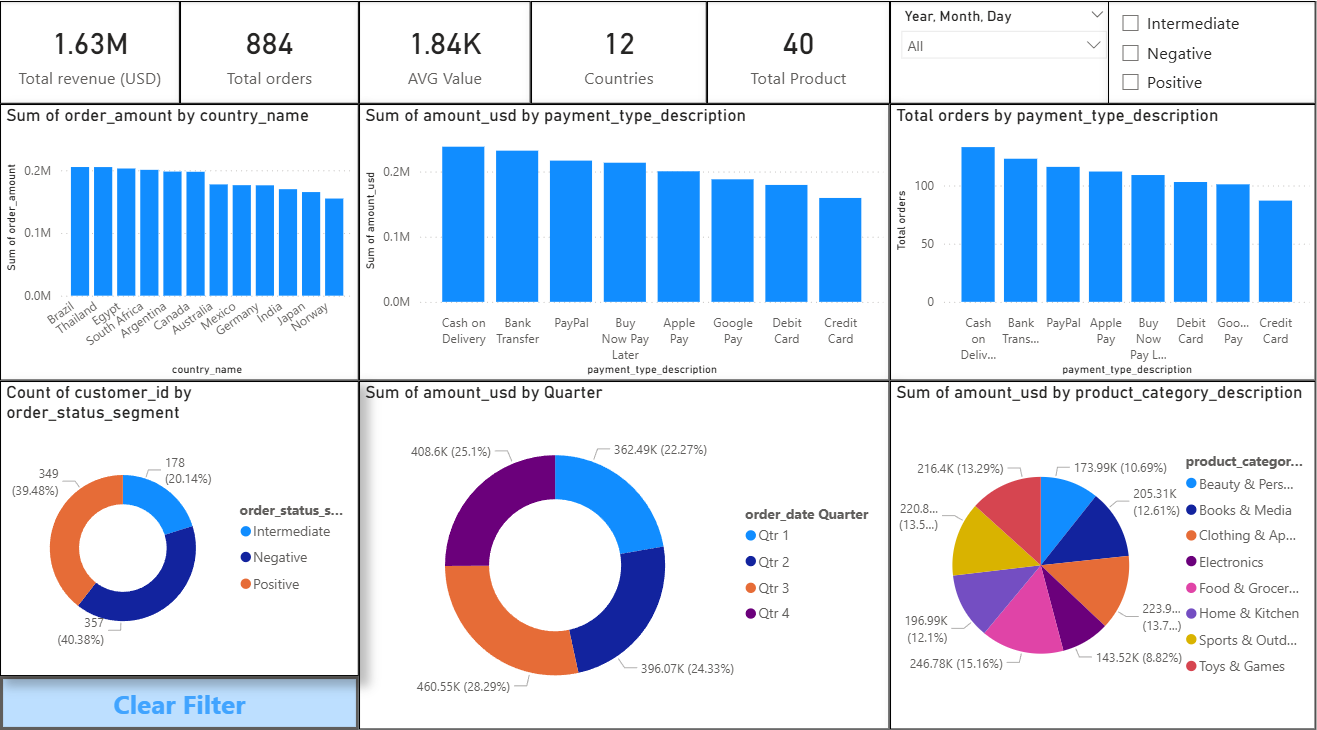

What the dashboard file says about the page in this screenshot:
{"tool":"powerbi","page":{"name":"Page 1","canvas":[1280,720],"ordinal":0},"visuals":[{"type":"card","fields":{"Values":["fact_orders.Total revenue"]},"box":[0,0,175.1,100.2],"z":0},{"type":"card","fields":{"Values":["fact_orders.Total orders"]},"box":[175.1,0,174.1,100.2],"z":1000},{"type":"card","fields":{"Values":["measuree.AVG Value"]},"box":[349.2,0,167.3,100.2],"z":2000},{"type":"card","fields":{"Values":["fact_orders.Countries"]},"box":[516.5,0,171.2,100.2],"z":3000},{"type":"card","fields":{"Values":["fact_orders.Total Product"]},"box":[687.7,0,178,100.2],"z":4000},{"type":"slicer","fields":{"Values":["fact_orders.order_date.Variation.Date Hierarchy.Year","fact_orders.order_date.Variation.Date Hierarchy.Month","fact_orders.order_date.Variation.Date Hierarchy.Day"]},"box":[865.7,0,221.8,100.2],"z":5000},{"type":"clusteredColumnChart","fields":{"Y":["Sum(fact_orders.order_amount)"],"Category":["fact_orders.country_name"]},"box":[0,100.2,349.2,269.4],"z":6000},{"type":"slicer","fields":{"Values":["fact_orders.order_status_segment"]},"box":[1077.7,0,202.3,100.2],"z":7000},{"type":"columnChart","fields":{"Category":["fact_orders.payment_type_description"],"Y":["Sum(fact_orders.amount_usd)"]},"box":[349.2,100.2,516.5,269.4],"z":8000},{"type":"columnChart","fields":{"Y":["measuree.Total orders"],"Category":["fact_orders.payment_type_description"]},"box":[865.7,100.2,414.3,269.4],"z":9000},{"type":"donutChart","fields":{"Y":["Sum(fact_orders.amount_usd)"],"Category":["fact_orders.order_date.Variation.Date Hierarchy.Quarter"]},"box":[349.2,369.6,516.5,339.5],"z":10000},{"type":"pieChart","fields":{"Y":["Sum(fact_orders.amount_usd)"],"Series":["fact_orders.product_category_description"]},"box":[865.7,369.6,414.3,339.5],"z":11000},{"type":"actionButton","box":[1.1,657.5,348.5,51.9],"z":12000},{"type":"donutChart","fields":{"Y":["CountNonNull(fact_orders.customer_id)"],"Category":["fact_orders.order_status_segment"]},"box":[0,370,349,287],"z":13000}]}

Visuals, with their boxes in screenshot pixels (x1, y1, x2, y2), scaled from the page's 1280x720 canvas onto the 1317x730 screenshot:
card - fact_orders.Total revenue: crop(0, 0, 180, 102)
card - fact_orders.Total orders: crop(180, 0, 359, 102)
card - measuree.AVG Value: crop(359, 0, 531, 102)
card - fact_orders.Countries: crop(531, 0, 708, 102)
card - fact_orders.Total Product: crop(708, 0, 891, 102)
slicer - fact_orders.order_date.Variation.Date Hierarchy.Year x fact_orders.order_date.Variation.Date Hierarchy.Month: crop(891, 0, 1119, 102)
clusteredColumnChart - Sum(fact_orders.order_amount) x fact_orders.country_name: crop(0, 102, 359, 375)
slicer - fact_orders.order_status_segment: crop(1109, 0, 1316, 102)
columnChart - fact_orders.payment_type_description x Sum(fact_orders.amount_usd): crop(359, 102, 891, 375)
columnChart - measuree.Total orders x fact_orders.payment_type_description: crop(891, 102, 1316, 375)
donutChart - Sum(fact_orders.amount_usd) x fact_orders.order_date.Variation.Date Hierarchy.Quarter: crop(359, 375, 891, 719)
pieChart - Sum(fact_orders.amount_usd) x fact_orders.product_category_description: crop(891, 375, 1316, 719)
actionButton: crop(1, 667, 360, 719)
donutChart - CountNonNull(fact_orders.customer_id) x fact_orders.order_status_segment: crop(0, 375, 359, 666)
